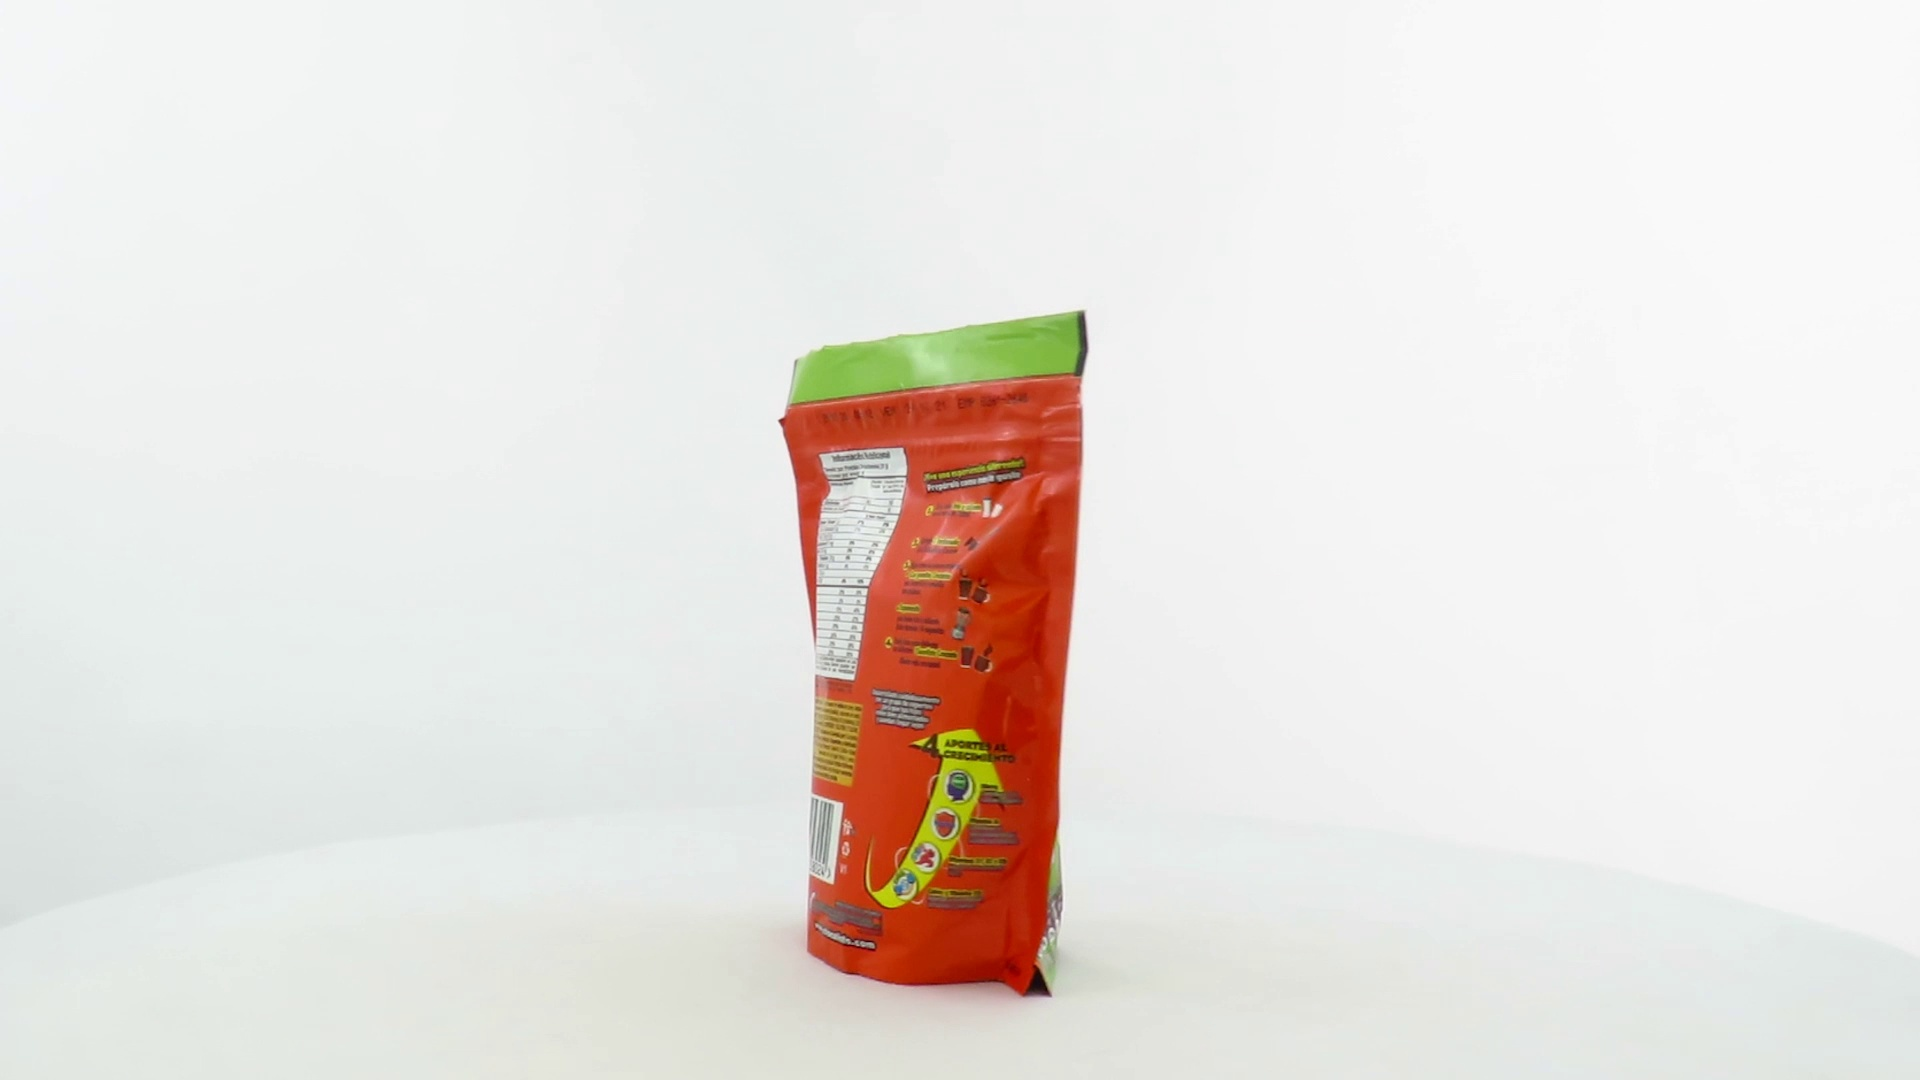COL0170102DYP10000: (773, 305, 1095, 1004)
